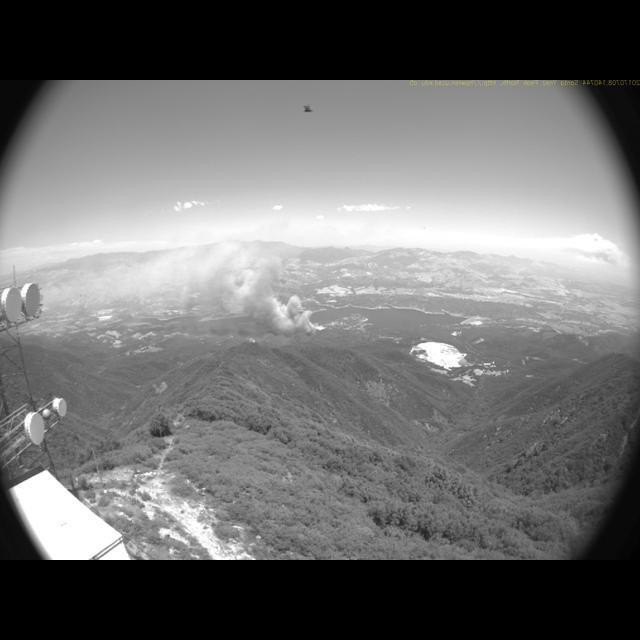Smoke: (81, 226, 333, 334)
